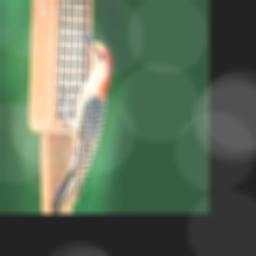Woodpecker: (51, 27, 111, 211)
